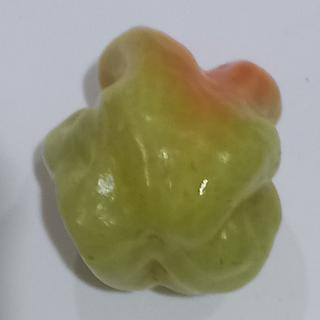Grade-B: (33, 20, 292, 298)
